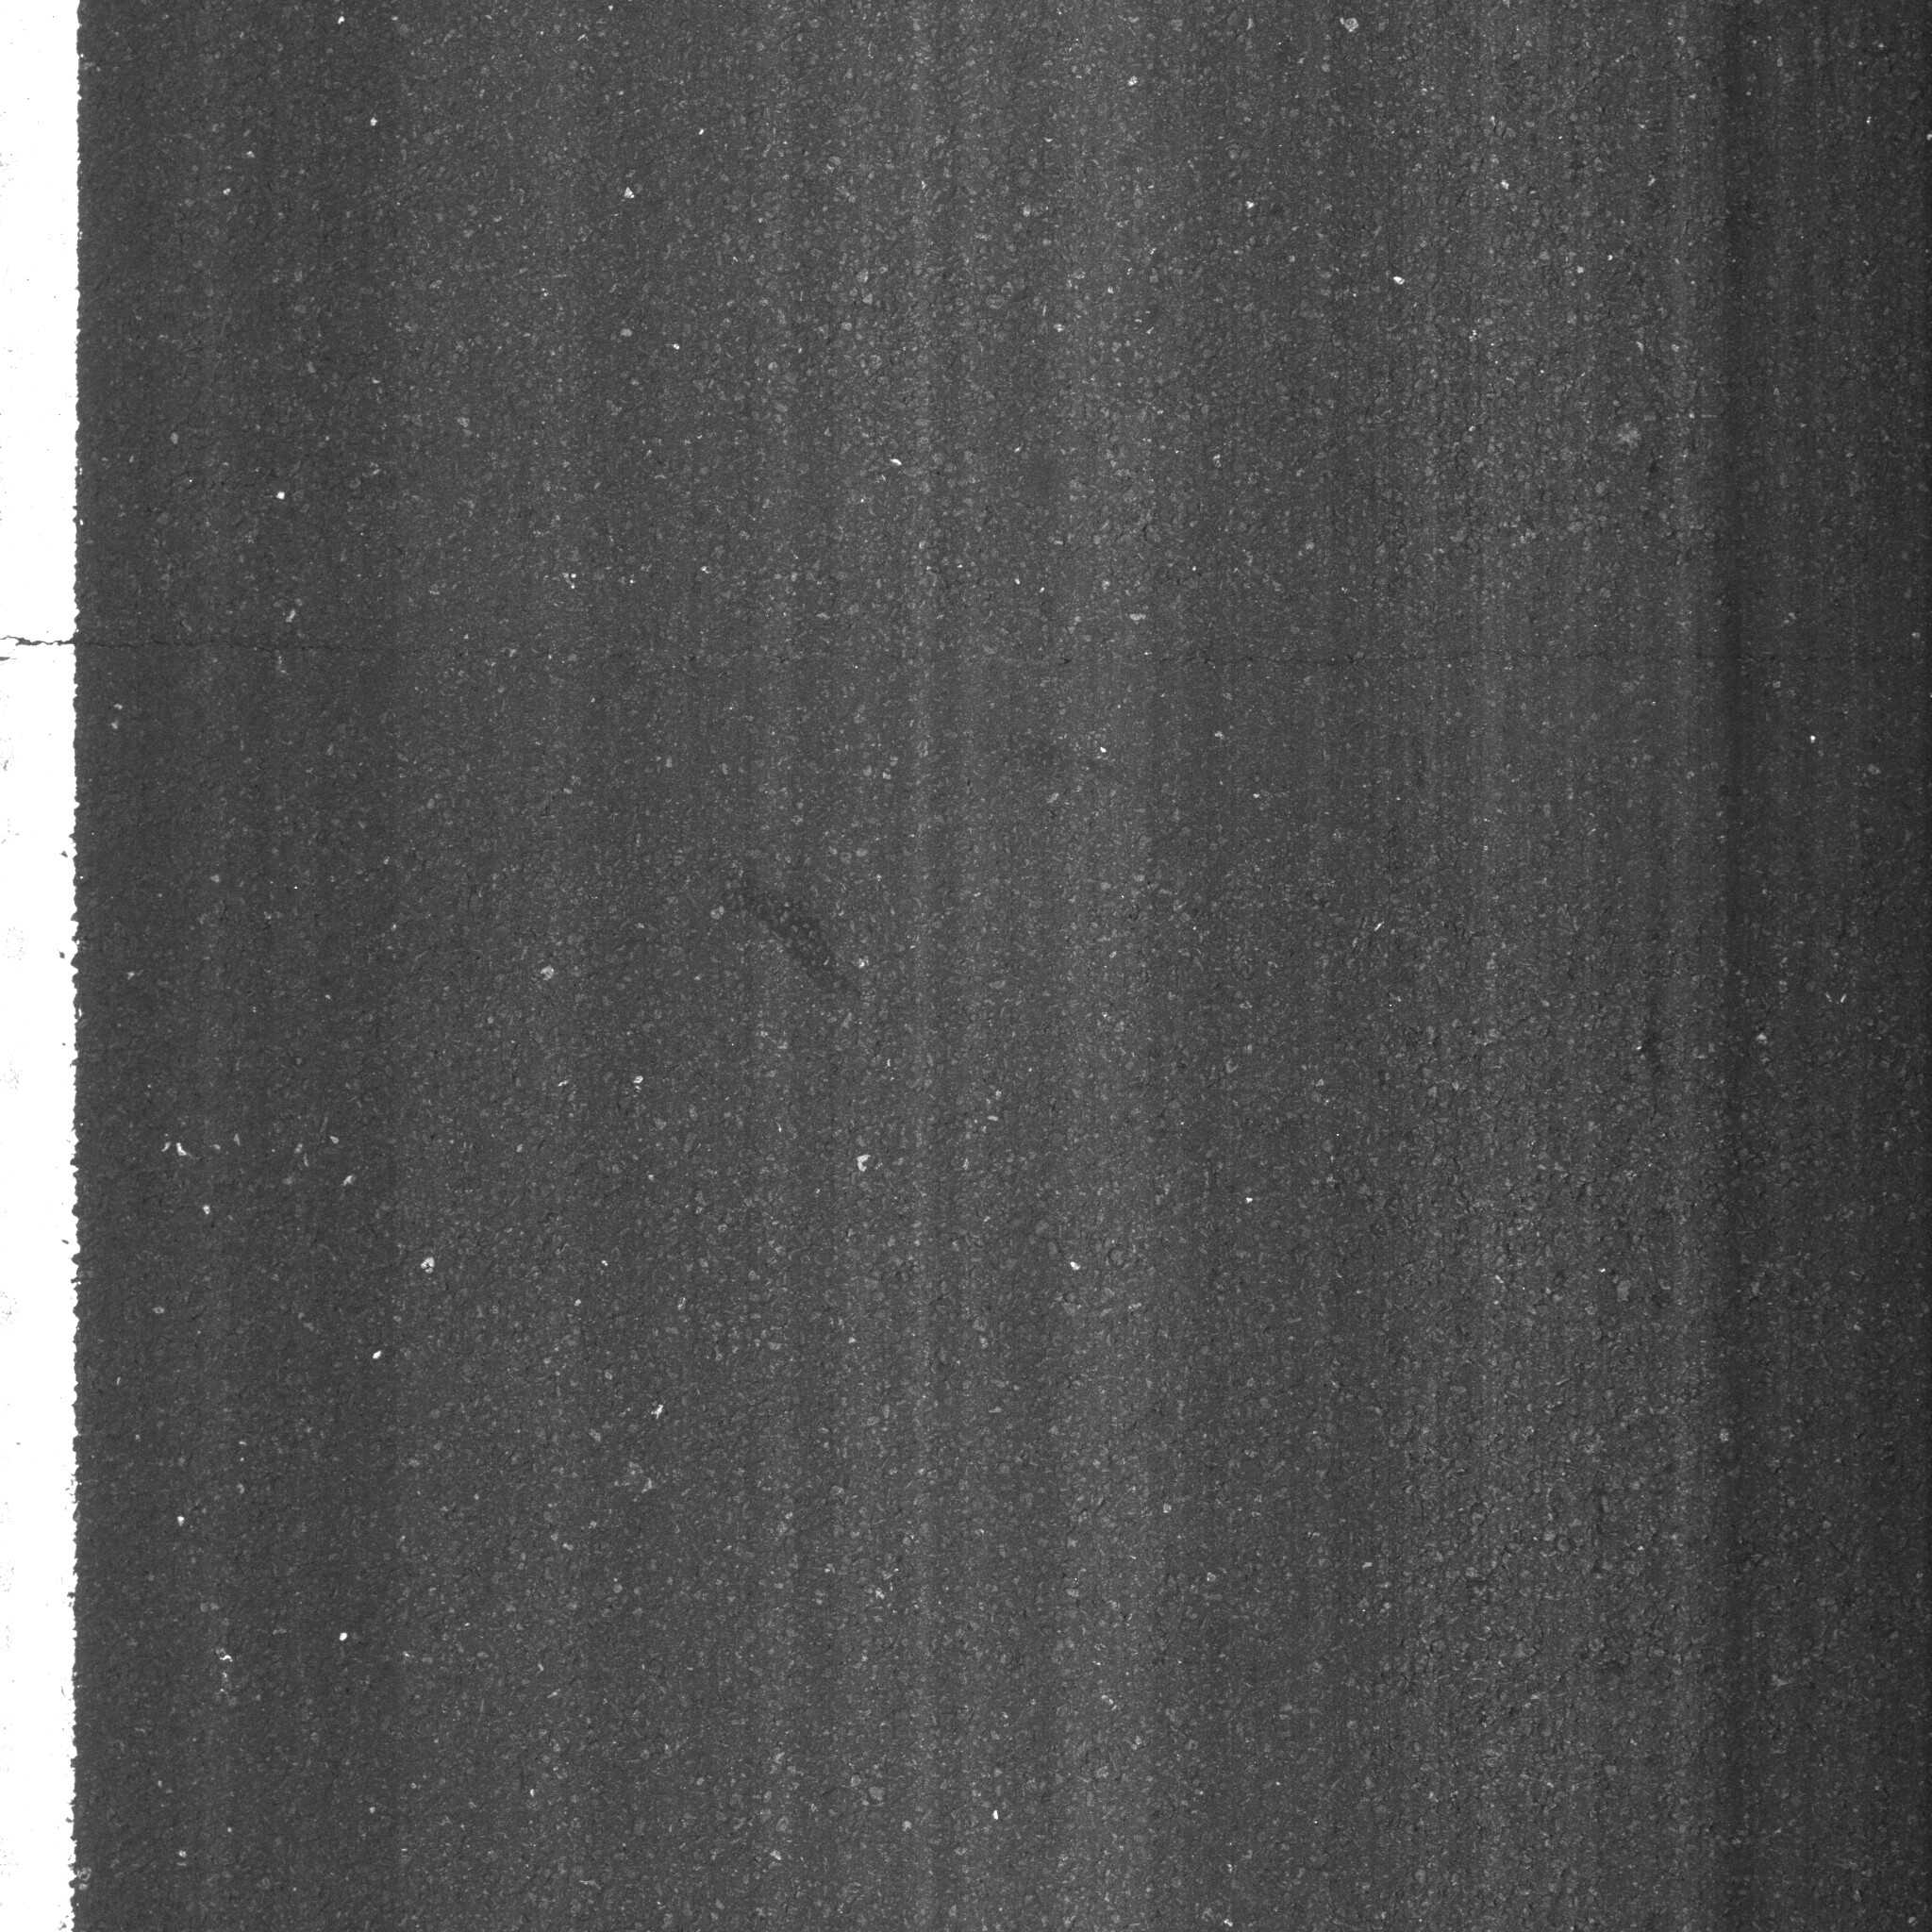transeverse: (5, 602, 1932, 718)
